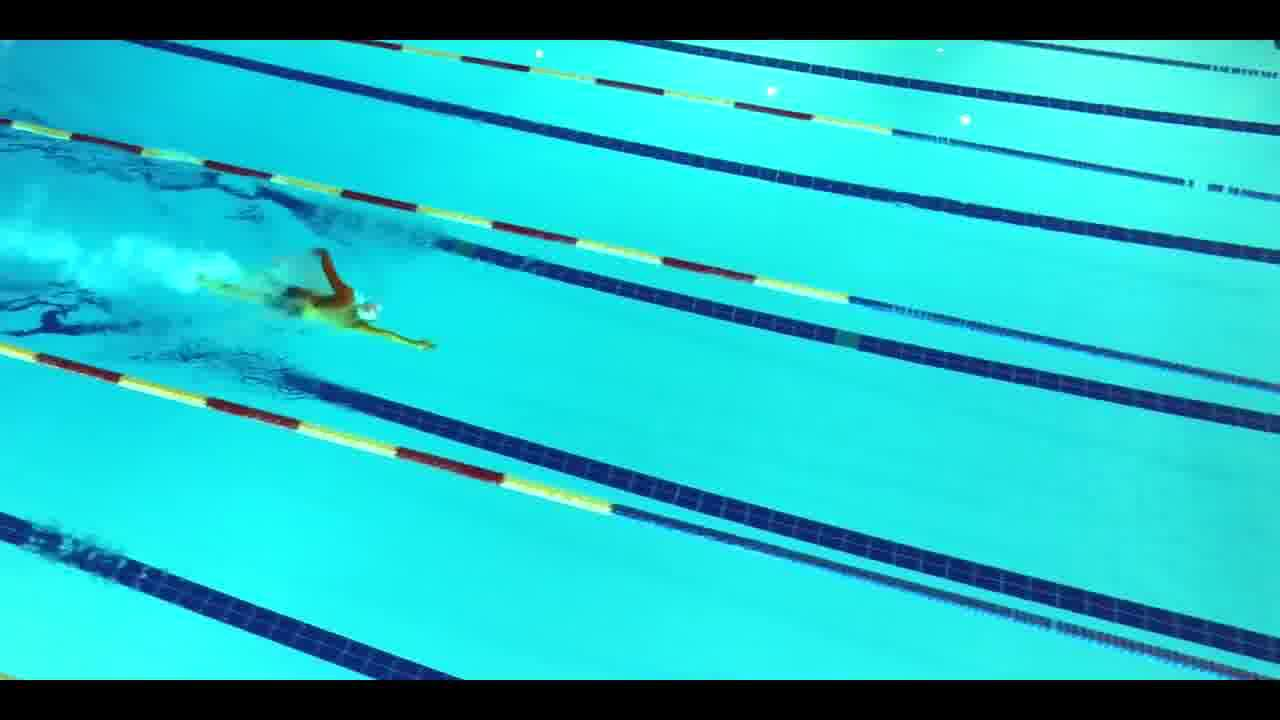swimmer: (187, 251, 428, 380)
